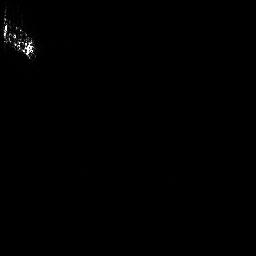ship: (1, 6, 35, 60)
